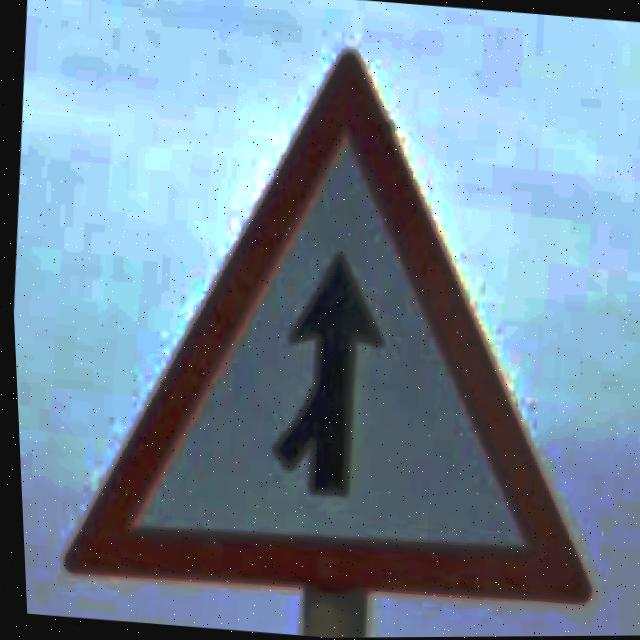leftmerge: (57, 52, 588, 608)
